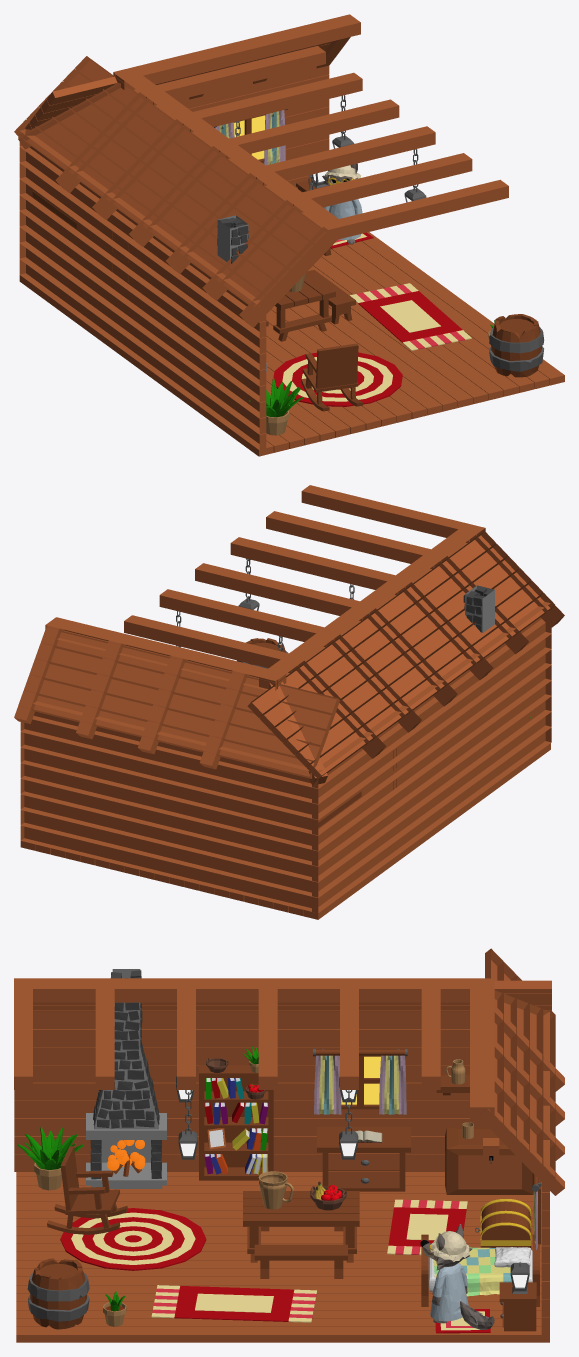
3 renders of one model, top to bottom at view 1: azimuth 30°, elevation 25°; view 2: azimuth 150°, elevation 25°; view 3: azimuth 270°, elevation 25°, orthographic. The views are drawn at different scales.
Visible parts, largest first — view 1: scene, emission_light; view 2: scene; view 3: scene, emission_light, emission_fire.
Part boxes in pixels (x1,y1,x2,y2): scene: (14, 14, 564, 456); emission_light: (233, 115, 411, 201); scene: (14, 485, 564, 919); scene: (14, 948, 564, 1342); emission_light: (178, 1056, 527, 1287); emission_fire: (107, 1140, 145, 1170).
Size of the model in its own units: 4.05 by 2.5 by 5.32.
Materials: 48 (2 with a texture image).
